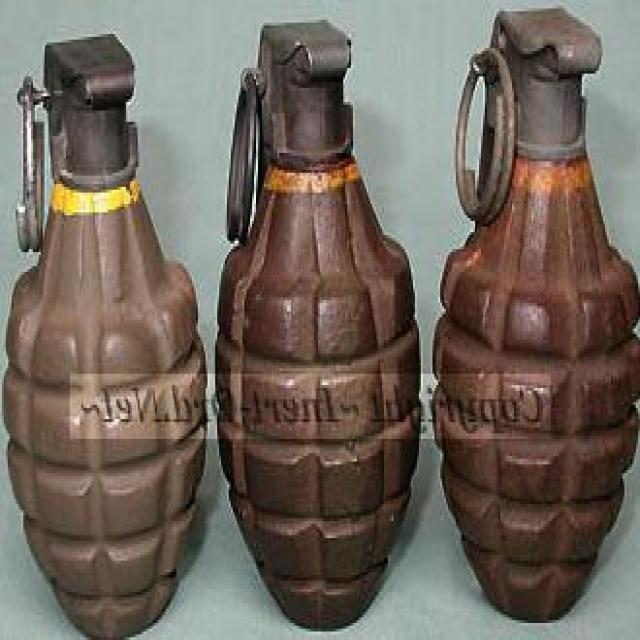grenade: (217, 18, 426, 633), (432, 7, 639, 627), (3, 32, 210, 638)
